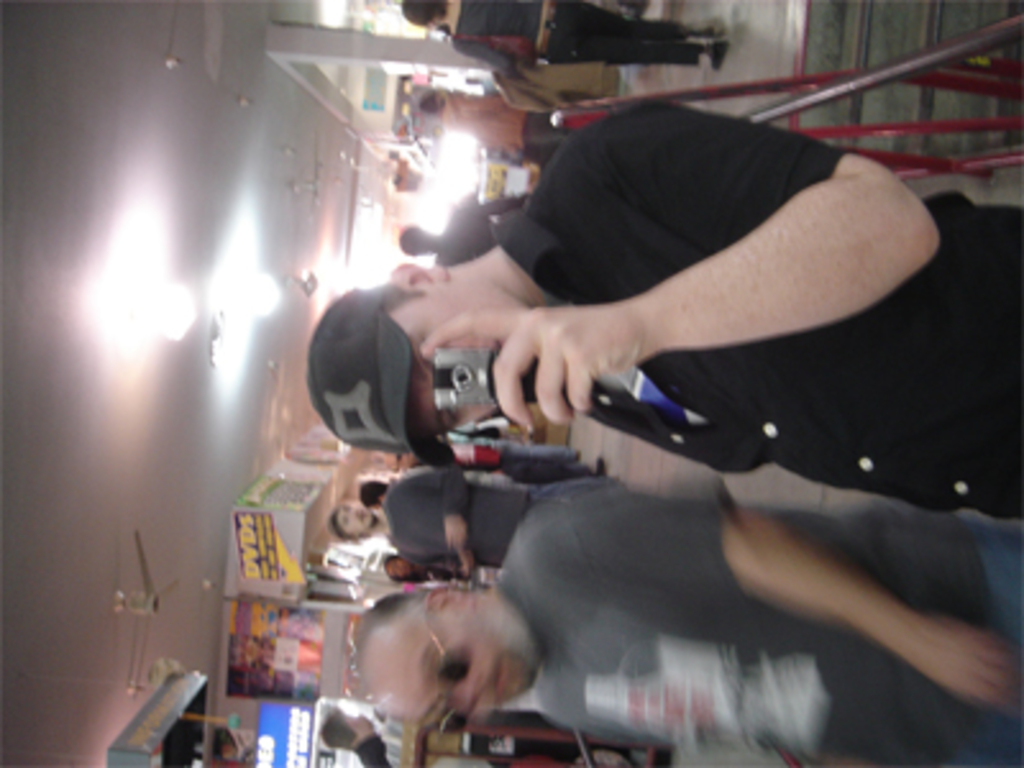Human_hand: (423, 313, 659, 421), (913, 617, 1008, 701)
